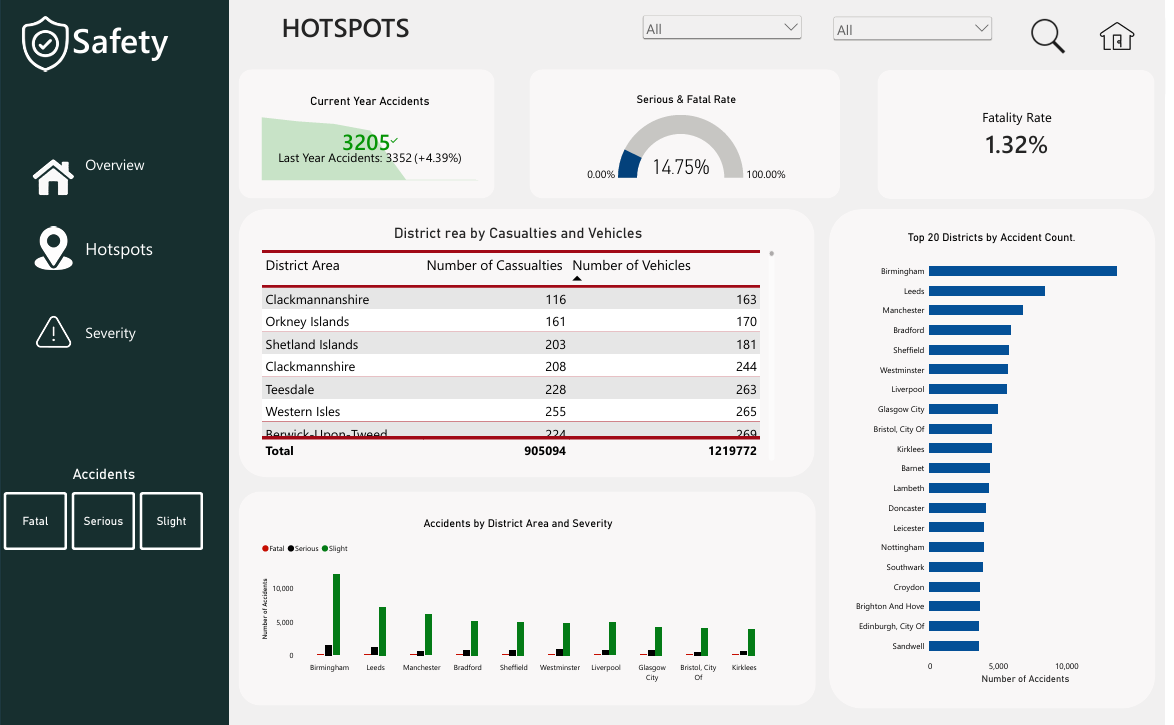

This screenshot's page, from the dashboard's own definition file:
{"tool":"powerbi","page":{"name":"Hotspots","canvas":[1920,1200],"ordinal":1},"visuals":[{"type":"shape","box":[378.8,0,1541.6,1200],"z":0},{"type":"shape","box":[1366.4,350.4,536.5,821.2],"z":1000},{"type":"shape","box":[394.2,814.6,949.9,352.8],"z":2000},{"type":"shape","box":[1446.3,120.9,456.1,211.7],"z":3000},{"type":"shape","box":[394.2,120.4,420.8,211.7],"z":4000},{"type":"shape","box":[394.2,350.4,948.2,440.1],"z":5000},{"type":"clusteredBarChart","title":"Top 20 Districts by Accident.","fields":{"Category":["Road Safety Clean.District Area"],"Y":["CountNonNull(Road Safety Clean.Accident_Severity)"]},"box":[1383.9,372.3,499.3,775.2],"z":6000},{"type":"clusteredColumnChart","title":"Accidents by District Area and Severity","fields":{"Category":["Road Safety Clean.District Area"],"Series":["Road Safety Clean.Accident_Severity"],"Y":["CountNonNull(Road Safety Clean.Accident_Severity)"]},"box":[416.1,843.1,875.9,304.4],"z":7000},{"type":"cardVisual","fields":{"Data":["Road Safety Clean.Fatality Rate"]},"box":[1469,141.1,413.2,171.3],"z":8000},{"type":"shape","box":[872.9,120.4,511.5,211.7],"z":9000},{"type":"image","box":[1805,32.5,70,65],"z":10000},{"type":"slicer","fields":{"Values":["Road Safety Clean.District Area"]},"box":[1367.5,27.5,272.5,75],"z":11000},{"type":"image","box":[1692.5,32.5,67.5,65],"z":12000},{"type":"textbox","box":[449,20,262,83],"z":13000},{"type":"kpi","title":"Current Year Accidents","fields":{"Goal":["Road Safety Clean.Prev Year Accidents"],"Indicator":["Road Safety Clean.Total Accidents"],"TrendLine":["Road Safety Clean.Year"]},"box":[416.1,146.7,388,171.3],"z":14000},{"type":"tableEx","title":"District rea by Casualties and Vehicles","fields":{"Values":["Road Safety Clean.District Area","Sum(Road Safety Clean.Number_of_Casualties)","Sum(Road Safety Clean.Number_of_Vehicles)"]},"box":[416.1,361.3,875.9,418.2],"z":15000},{"type":"pageNavigator","box":[129.2,212.4,208,407.3],"z":16000},{"type":"image","box":[48.2,254,81,78.8],"z":17000},{"type":"image","box":[48.2,378.8,81,72.3],"z":18000},{"type":"image","box":[48.2,519,81,65.7],"z":19000},{"type":"advancedSlicerVisual","title":"Accidents","fields":{"Values":["Road Safety Clean.Accident_Severity"]},"box":[6.6,773,330.7,138],"z":20000},{"type":"textbox","box":[120.4,32.8,216.8,87.6],"z":21000},{"type":"image","box":[30.2,20.2,90.7,113.4],"z":22000},{"type":"slicer","fields":{"Values":["Road Safety Clean.Year"]},"box":[1053.5,26.1,272.5,75],"z":23000},{"type":"gauge","fields":{"Y":["Road Safety Clean.Serious & Fatal Rate"]},"box":[895,144.5,471.6,174.6],"z":24000}]}

Visuals, with their boxes on the page's 1920x1200 design canvas (x1, y1, x2, y2). These are canvas units, not pixel positions in the 1174x725 screenshot, which may show the page scaled, cropped or inside an application window:
shape: <box>379,0,1920,1200</box>
shape: <box>1366,350,1903,1172</box>
shape: <box>394,815,1344,1167</box>
shape: <box>1446,121,1902,333</box>
shape: <box>394,120,815,332</box>
shape: <box>394,350,1342,790</box>
"Top 20 Districts by Accident." clusteredBarChart: <box>1384,372,1883,1148</box>
"Accidents by District Area and Severity" clusteredColumnChart: <box>416,843,1292,1148</box>
cardVisual - Road Safety Clean.Fatality Rate: <box>1469,141,1882,312</box>
shape: <box>873,120,1384,332</box>
image: <box>1805,32,1875,98</box>
slicer - Road Safety Clean.District Area: <box>1368,28,1640,102</box>
image: <box>1692,32,1760,98</box>
textbox: <box>449,20,711,103</box>
"Current Year Accidents" kpi: <box>416,147,804,318</box>
"District rea by Casualties and Vehicles" tableEx: <box>416,361,1292,780</box>
pageNavigator: <box>129,212,337,620</box>
image: <box>48,254,129,333</box>
image: <box>48,379,129,451</box>
image: <box>48,519,129,585</box>
"Accidents" advancedSlicerVisual: <box>7,773,337,911</box>
textbox: <box>120,33,337,120</box>
image: <box>30,20,121,134</box>
slicer - Road Safety Clean.Year: <box>1054,26,1326,101</box>
gauge - Road Safety Clean.Serious & Fatal Rate: <box>895,144,1367,319</box>
